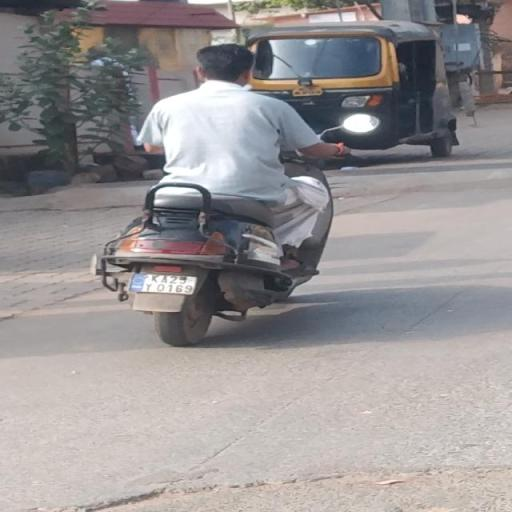bike: (87, 39, 358, 350)
numberplate: (129, 268, 203, 300)
withouthelmet: (198, 45, 248, 83)
